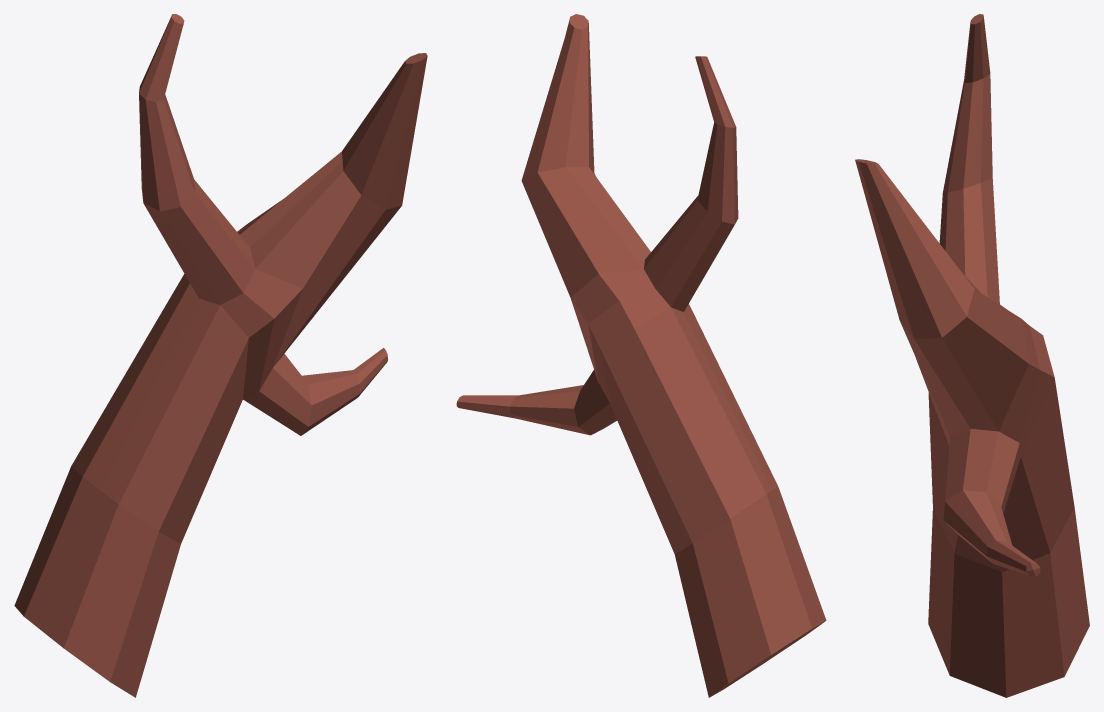
File: Tree_Limb_2.fbx
3 views of the same model, side by side, from view 1: azimuth 30°, elevation 25°; view 2: azimuth 150°, elevation 25°; view 3: azimuth 270°, elevation 25° (orthographic). The views are drawn at different scales.
Visible parts, largest first — view 1: Trunk_2.003; view 2: Trunk_2.003; view 3: Trunk_2.003.
Boxes of the visible parts, left/top/right/bottom form: Trunk_2.003: left=14, top=14, right=427, bottom=697; Trunk_2.003: left=456, top=14, right=826, bottom=697; Trunk_2.003: left=855, top=14, right=1089, bottom=697.
Bounding box in the file's own units: 82.28 × 141 × 42.93.
